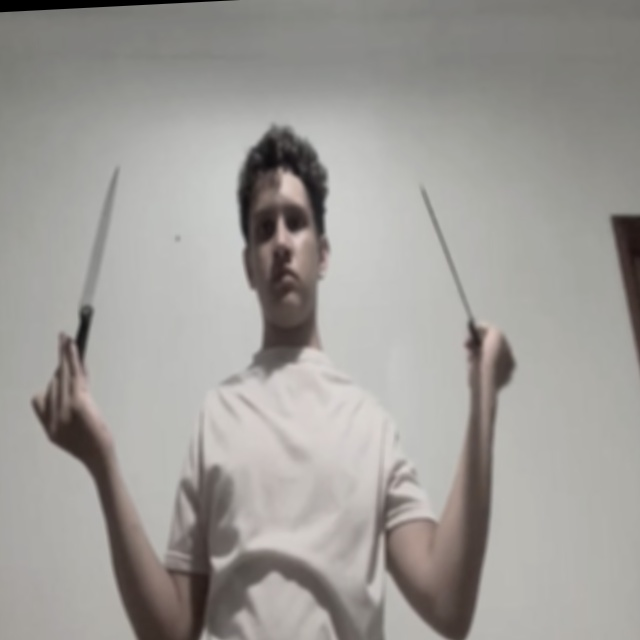Sharp-Object: (420, 183, 479, 338), (73, 163, 127, 312)
